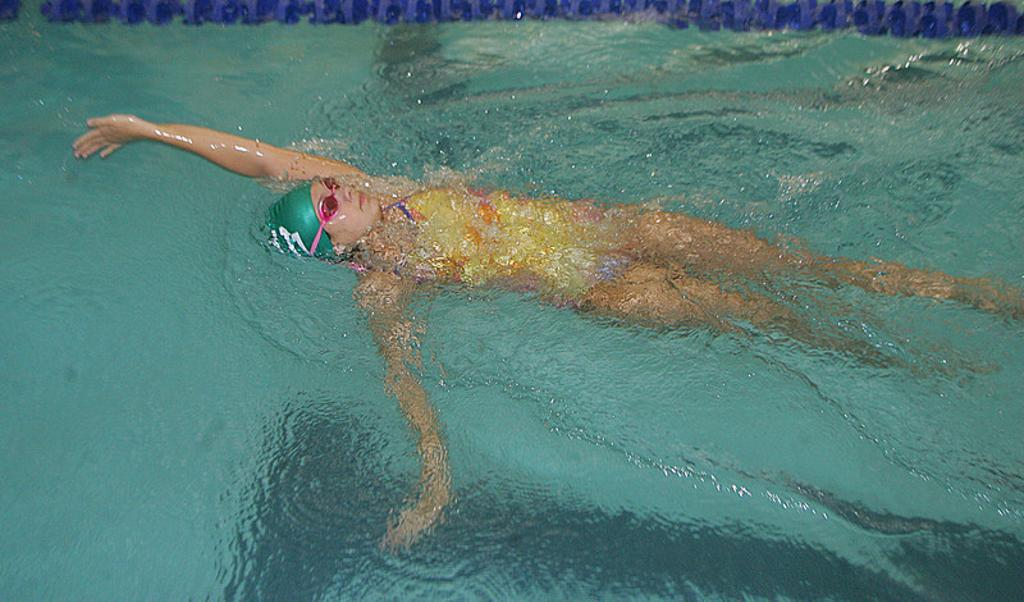face: (293, 179, 391, 235)
